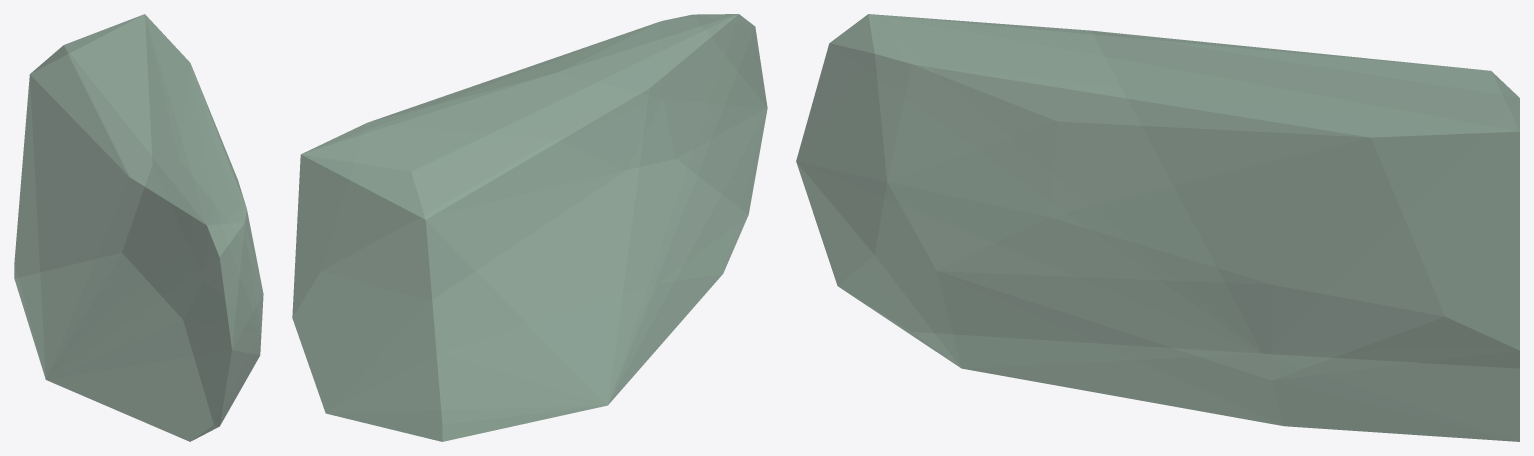
3 views of the same model, side by side, from view 1: azimuth 30°, elevation 25°; view 2: azimuth 150°, elevation 25°; view 3: azimuth 270°, elevation 25° (orthographic). The views are drawn at different scales.
Visible parts, largest first — view 1: Shape_IndexedFaceSet.017_Shape_IndexedFaceSet.7503; view 2: Shape_IndexedFaceSet.017_Shape_IndexedFaceSet.7503; view 3: Shape_IndexedFaceSet.017_Shape_IndexedFaceSet.7503.
Boxes of the visible parts, box(x1,y1,x2,y2) form: Shape_IndexedFaceSet.017_Shape_IndexedFaceSet.7503: box(14, 14, 263, 441); Shape_IndexedFaceSet.017_Shape_IndexedFaceSet.7503: box(292, 14, 767, 441); Shape_IndexedFaceSet.017_Shape_IndexedFaceSet.7503: box(796, 14, 1519, 441).
Bounding box in the file's own units: 0.1912 × 0.2322 × 0.4309.
